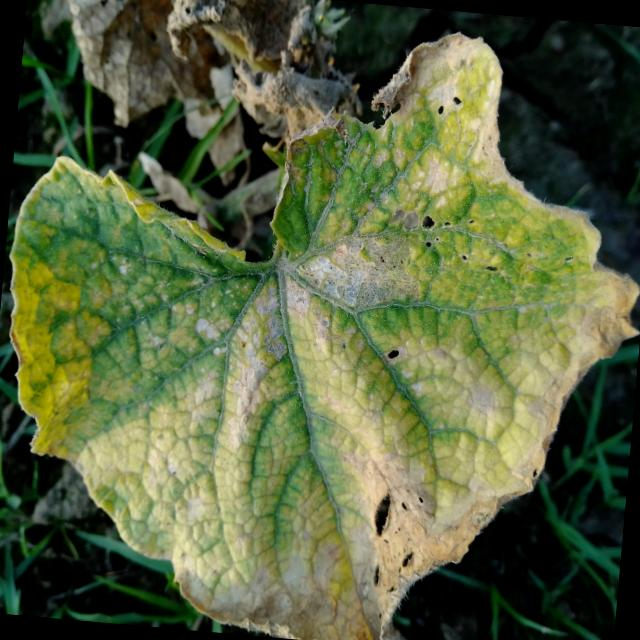cucumber_gummy: (0, 0, 640, 640), (35, 0, 272, 188)
